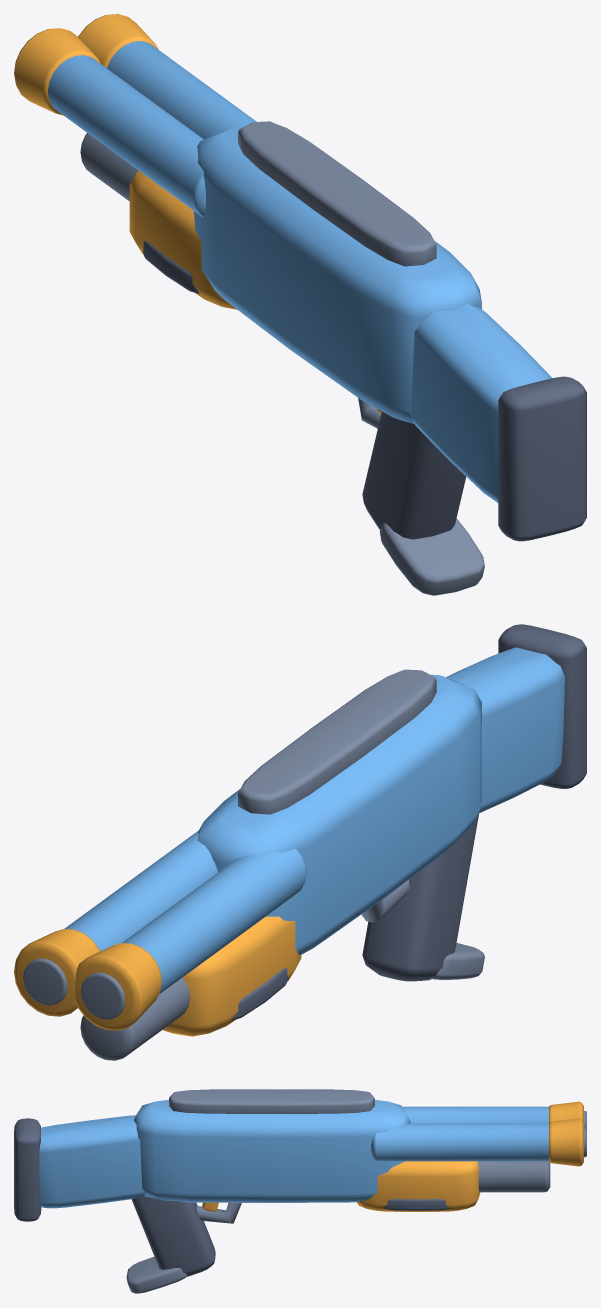
File: sweeper.glb
The picture shows the model from 3 angles, top to bottom: view 1: azimuth 30°, elevation 25°; view 2: azimuth 150°, elevation 25°; view 3: azimuth 270°, elevation 25°; orthographic projection. The views are drawn at different scales.
Visible parts, largest first — view 1: Mesh_Chassis_Body, PumpSlide; view 2: Mesh_Chassis_Body, PumpSlide; view 3: Mesh_Chassis_Body, PumpSlide.
Boxes of the visible parts, x1,y1,x2,y2 form: Mesh_Chassis_Body: (14,14,586,595); PumpSlide: (129,170,236,309); Mesh_Chassis_Body: (14,624,586,1060); PumpSlide: (163,916,301,1036); Mesh_Chassis_Body: (14,1089,586,1293); PumpSlide: (357,1161,480,1211).
Size of the model in its own units: 0.1157 by 0.2783 by 0.7511.
